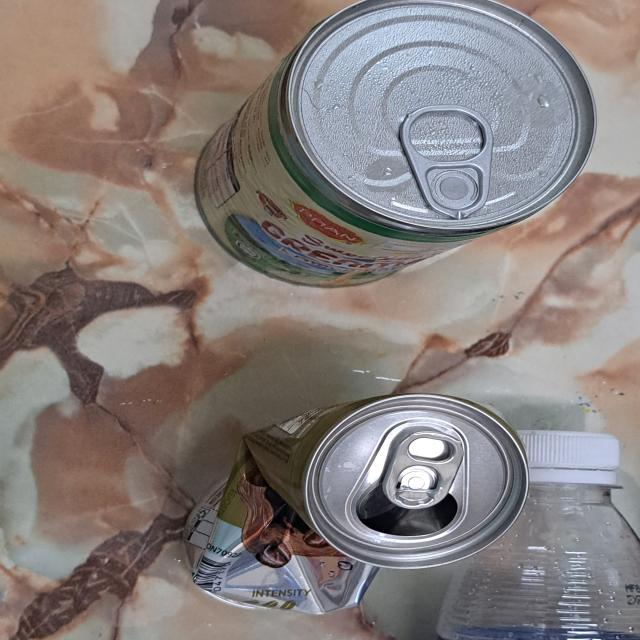can: (197, 0, 598, 289), (183, 393, 523, 616)
plastic bottle: (430, 482, 640, 640)
plastic bottle cap: (517, 428, 622, 483)
pop tab: (401, 107, 495, 220), (386, 429, 463, 511)
